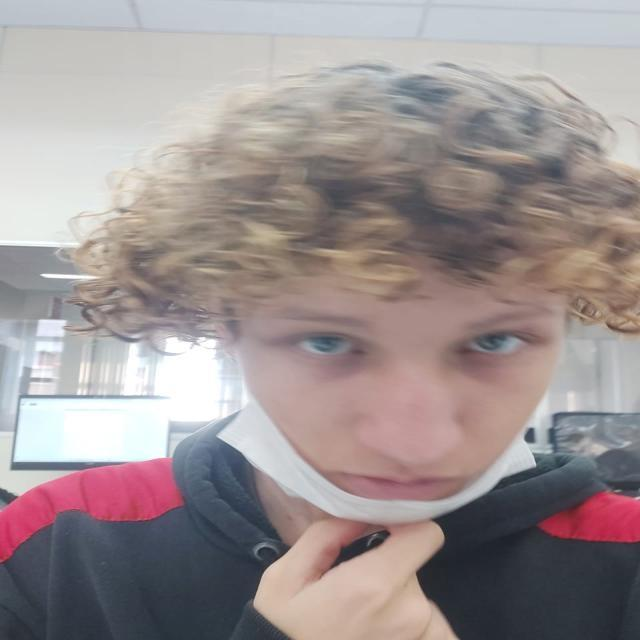hairnet: (246, 305, 556, 517)
